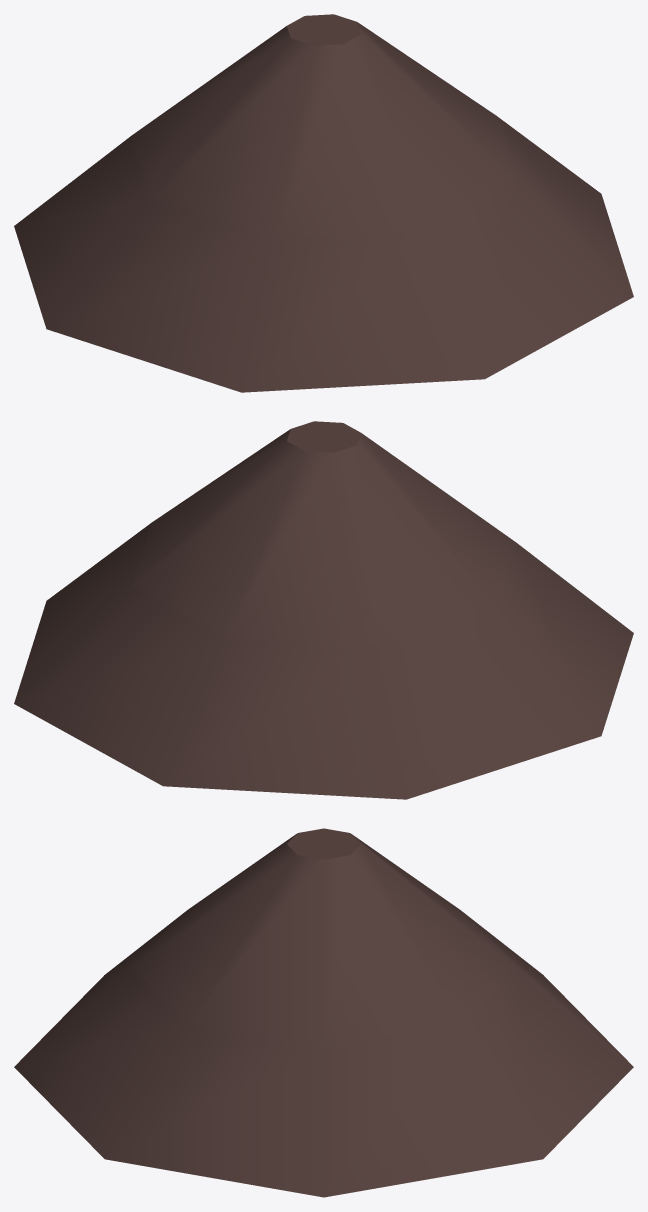
Rendered from site_stockpile1_far.fbx.
3 renders of one model, top to bottom at view 1: azimuth 30°, elevation 25°; view 2: azimuth 150°, elevation 25°; view 3: azimuth 270°, elevation 25°, orthographic. The views are drawn at different scales.
Parts seen in each view (by area): view 1: a1022/0/site_stockpile1_far; view 2: a1022/0/site_stockpile1_far; view 3: a1022/0/site_stockpile1_far.
Part boxes in pixels (x1,y1,x2,y2): a1022/0/site_stockpile1_far: (14, 14, 633, 392); a1022/0/site_stockpile1_far: (14, 421, 633, 799); a1022/0/site_stockpile1_far: (14, 828, 633, 1197).
Size of the model in its own units: 13.8 by 5.5 by 13.86.
